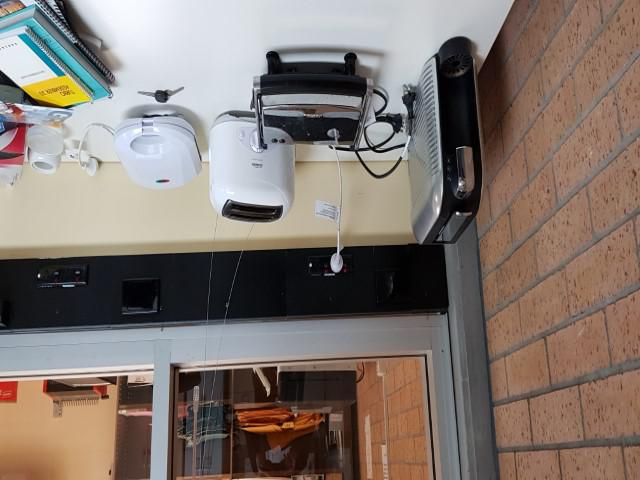key: (137, 87, 168, 105)
